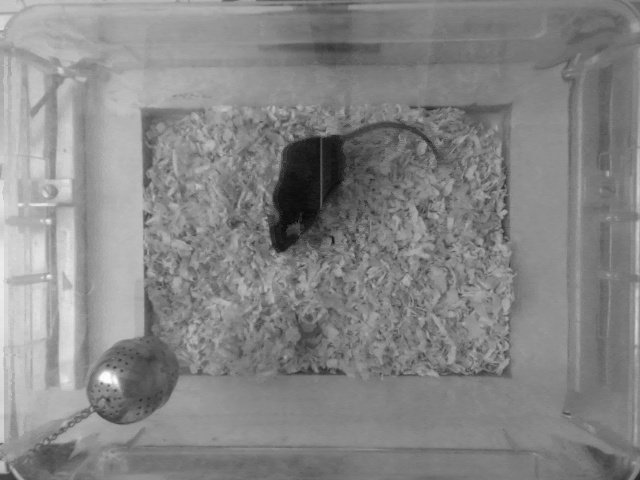mice: (259, 113, 445, 256)
